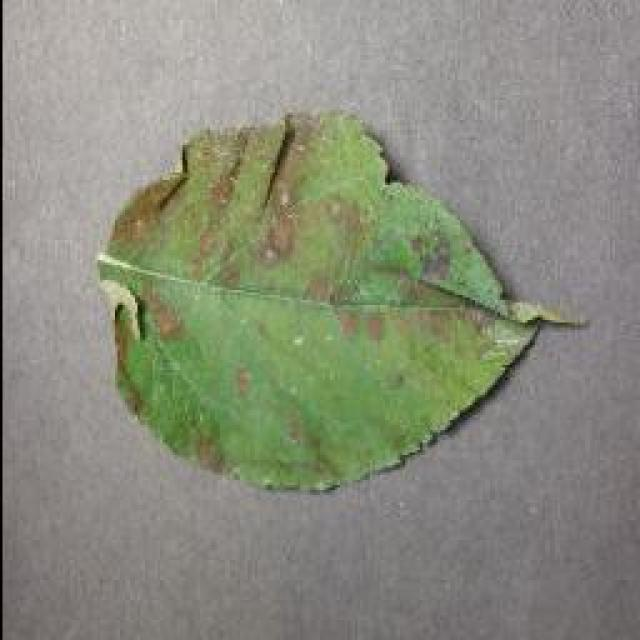apple cedar apple rust: (92, 107, 588, 495)
